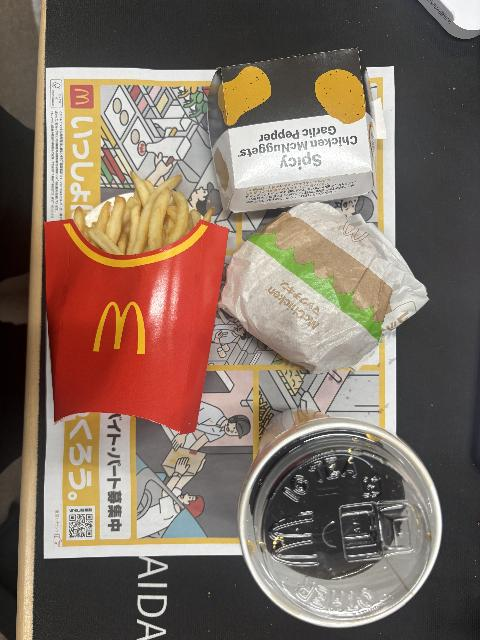burger: (216, 201, 430, 374)
drink: (237, 409, 444, 629)
fries: (43, 172, 230, 436)
nuggets: (207, 46, 376, 214)
